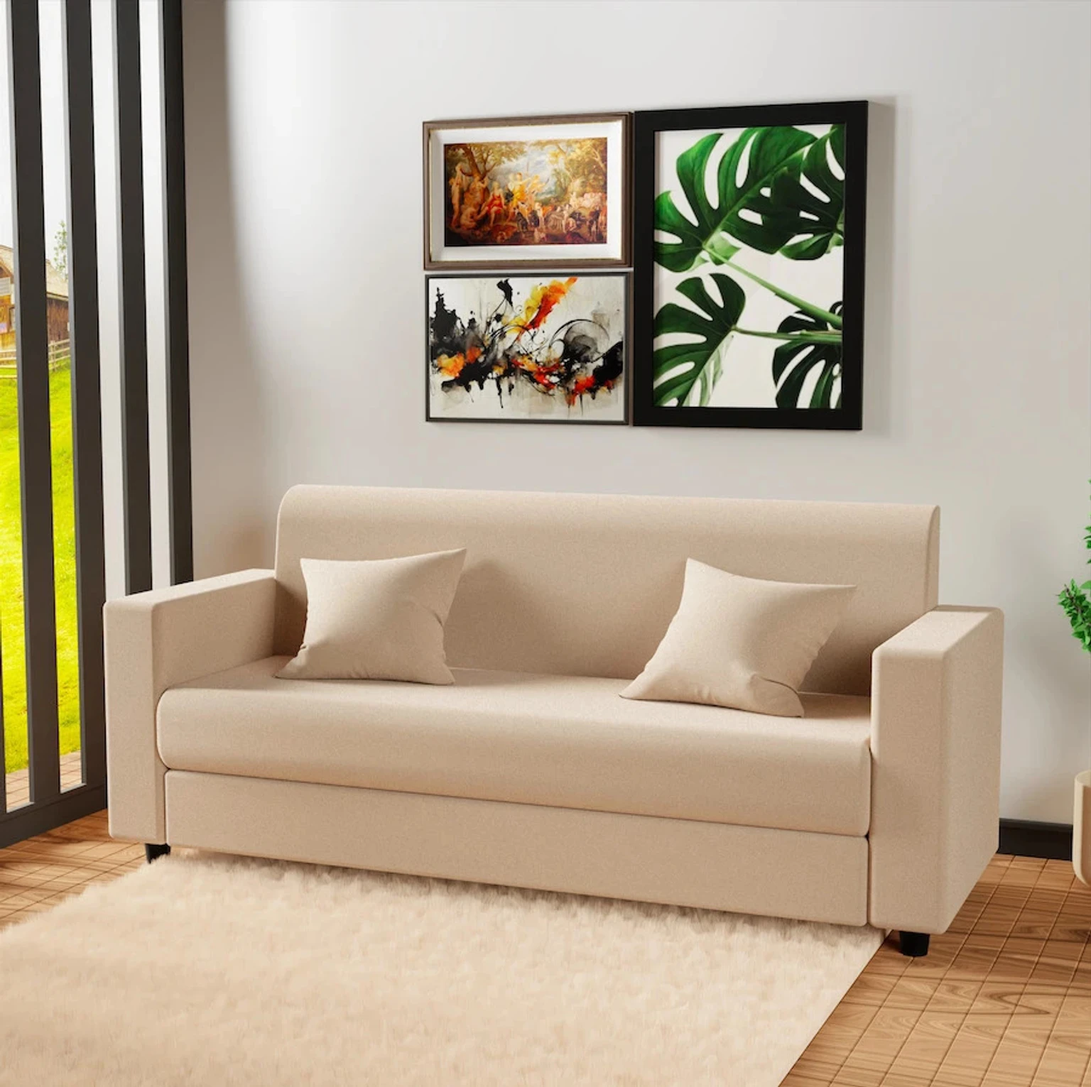3seatersofa: (105, 485, 1002, 954)
backrest: (272, 488, 940, 693)
base: (161, 774, 869, 923)
leftarmrest: (867, 603, 1004, 930)
leg: (890, 928, 928, 954), (142, 845, 168, 871)
pillow: (623, 554, 864, 719), (277, 544, 466, 684)
rightarmrest: (102, 566, 272, 843)
seat: (154, 648, 869, 835)
